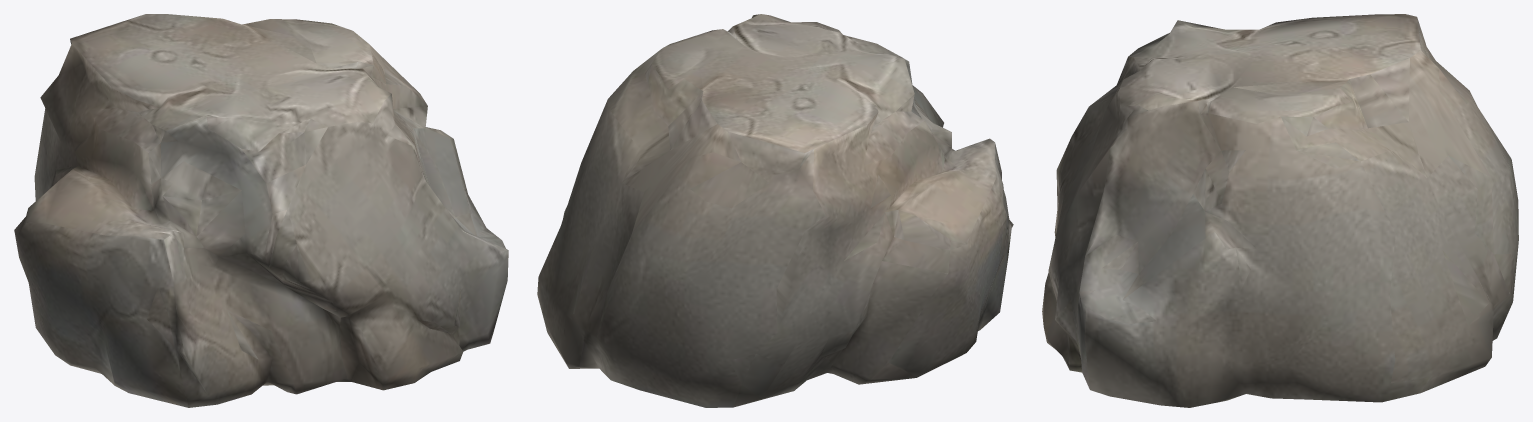
Rendered from rock_large_c.gltf.
3 views of the same model, side by side, from view 1: azimuth 30°, elevation 25°; view 2: azimuth 150°, elevation 25°; view 3: azimuth 270°, elevation 25° (orthographic). The views are drawn at different scales.
Visible parts, largest first — view 1: rock_large_c; view 2: rock_large_c; view 3: rock_large_c.
Part boxes in pixels (x1=…): rock_large_c: x1=14, y1=14, x2=508, y2=407; rock_large_c: x1=537, y1=14, x2=1013, y2=407; rock_large_c: x1=1042, y1=14, x2=1518, y2=407.
Size of the model in its own units: 1.42 by 0.8658 by 1.45.
1 material, 1 textured.
